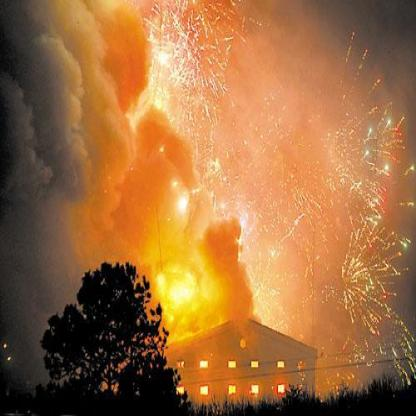other: (157, 0, 253, 109)
smoke: (152, 219, 282, 394)
